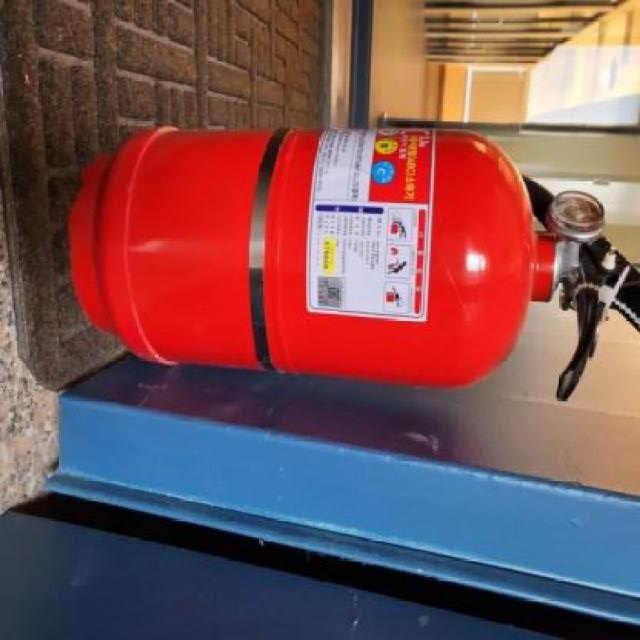fire extinguisher: (71, 124, 640, 402)
